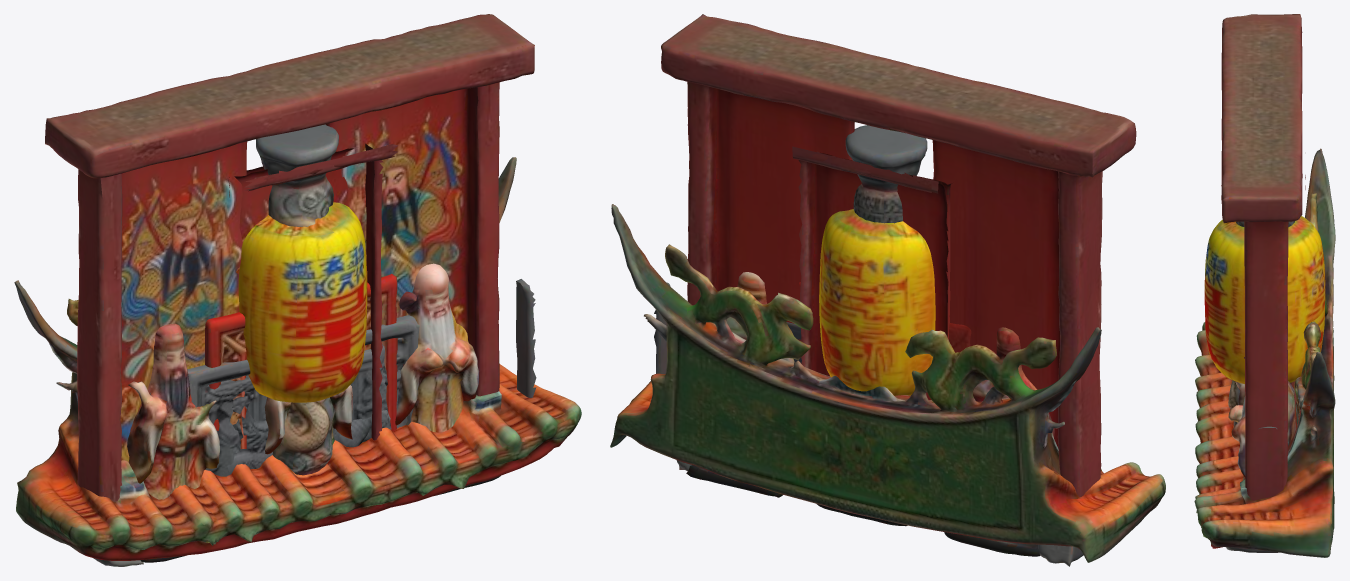
The model's file is decor.glb.
3 renders of one model, left to right at view 1: azimuth 30°, elevation 25°; view 2: azimuth 150°, elevation 25°; view 3: azimuth 270°, elevation 25°, orthographic. The views are drawn at different scales.
Visible parts, largest first — view 1: door, ridge, lantern, fls, pillar, panel, leafR, win, panel2, leafL; view 2: door, ridge, lantern, leafR, pillar, leafL, fls; view 3: door, ridge, lantern, fls, pillar.
Boxes of the visible parts, box(x1,y1,x2,y2) form: door: box(45, 14, 536, 566); ridge: box(14, 157, 581, 560); lantern: box(238, 202, 367, 402); fls: box(127, 263, 500, 562); pillar: box(256, 124, 338, 475); panel: box(189, 316, 418, 476); leafR: box(229, 143, 398, 440); win: box(205, 274, 397, 448); panel2: box(187, 315, 419, 476); leafL: box(228, 145, 394, 273); door: box(654, 14, 1136, 566); ridge: box(610, 204, 1165, 562); lantern: box(819, 209, 935, 395); leafR: box(792, 146, 952, 376); pillar: box(845, 125, 927, 223); leafL: box(809, 151, 948, 400); fls: box(686, 272, 1054, 556); door: box(1221, 14, 1302, 552); ridge: box(1194, 148, 1335, 557); lantern: box(1204, 216, 1325, 383); fls: box(1228, 357, 1296, 480); pillar: box(1228, 221, 1294, 426).
Size of the model in its own units: 0.3974 by 0.318 by 0.1119.
1 material, 1 textured.
